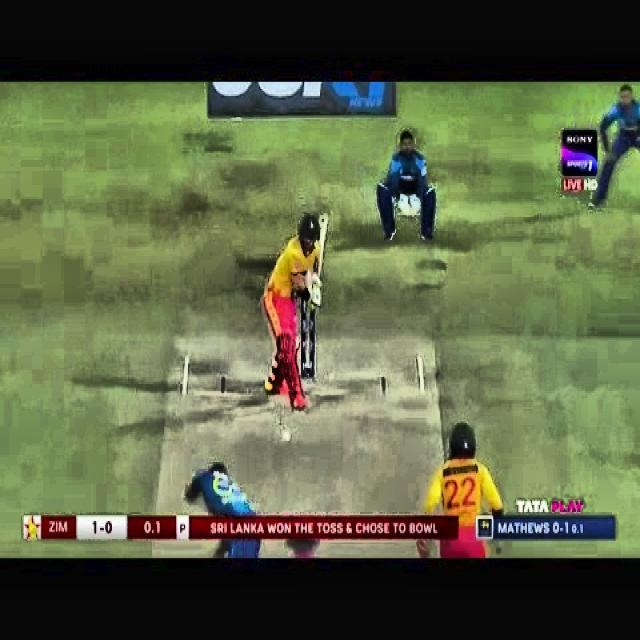Middle-stump: (301, 301, 306, 377)
Right-stump: (310, 307, 314, 376)
